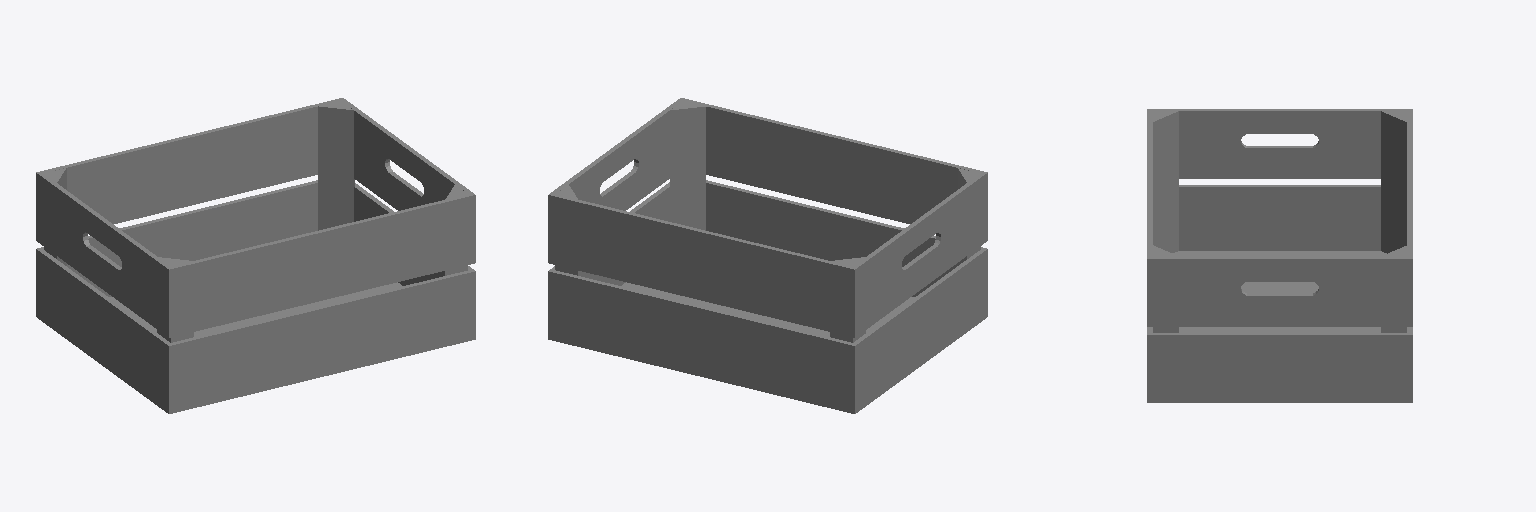
File: Crate4.obj
3 renders of one model, left to right at view 1: azimuth 30°, elevation 25°; view 2: azimuth 150°, elevation 25°; view 3: azimuth 270°, elevation 25°, orthographic.
Parts seen in each view (by area): view 1: Crate4; view 2: Crate4; view 3: Crate4.
Boxes of the visible parts, x1=… form: Crate4: x1=36, y1=98, x2=475, y2=413; Crate4: x1=548, y1=98, x2=987, y2=413; Crate4: x1=1147, y1=109, x2=1412, y2=402.
Bounding box in the file's own units: 15.75 × 7.09 × 11.81.